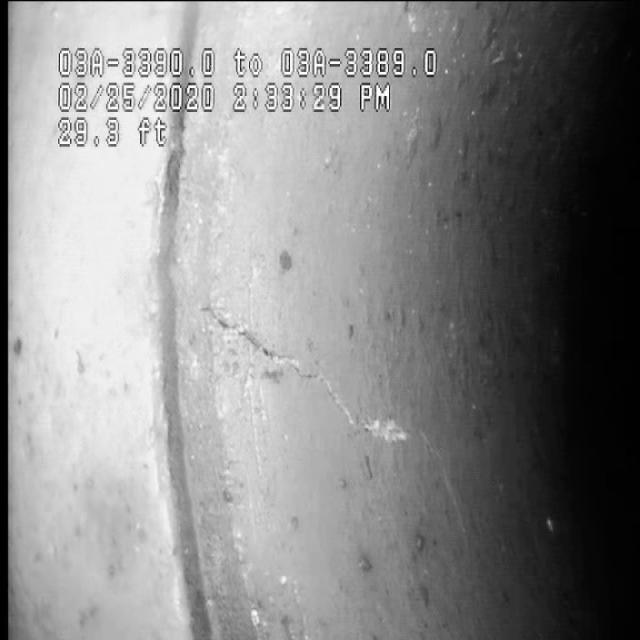Crack: (216, 282, 428, 462)
